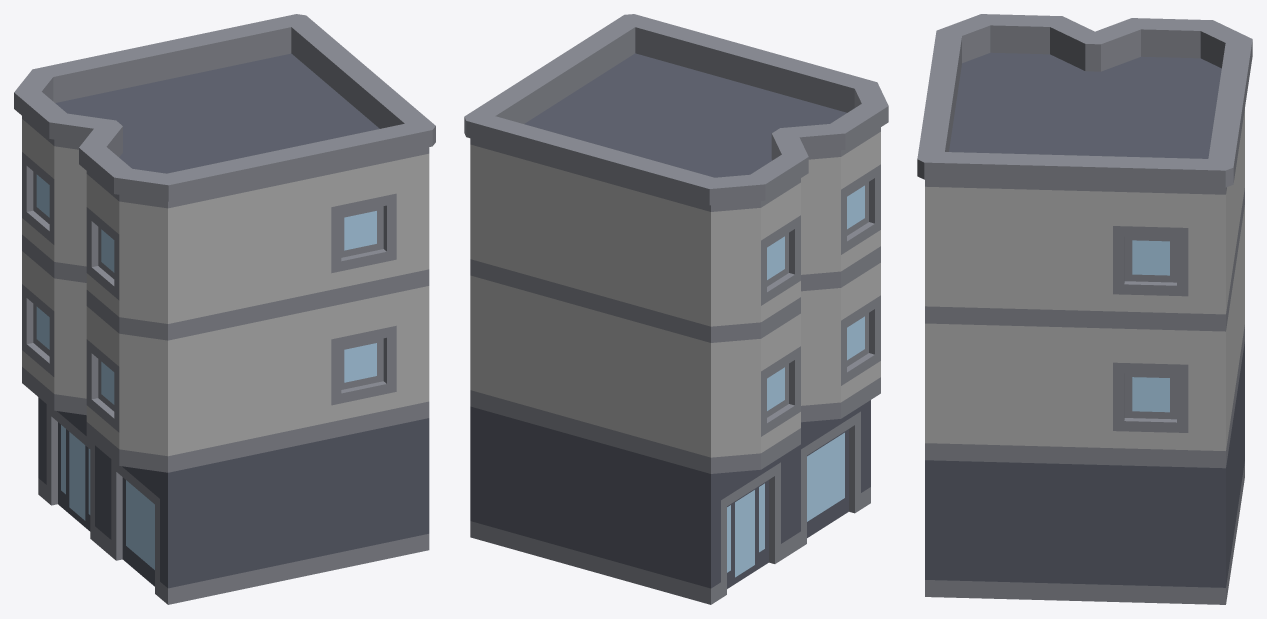
Rendered from variant_12.fbx.
3 renders of one model, left to right at view 1: azimuth 30°, elevation 25°; view 2: azimuth 150°, elevation 25°; view 3: azimuth 270°, elevation 25°, orthographic. The views are drawn at different scales.
Visible parts, largest first — view 1: small_buildingA; view 2: small_buildingA; view 3: small_buildingA.
Boxes of the visible parts, <box> form: small_buildingA: <box>14,14,435,604</box>; small_buildingA: <box>464,14,888,604</box>; small_buildingA: <box>917,14,1252,604</box>.
Size of the model in its own units: 98.26 by 128 by 88.91.
